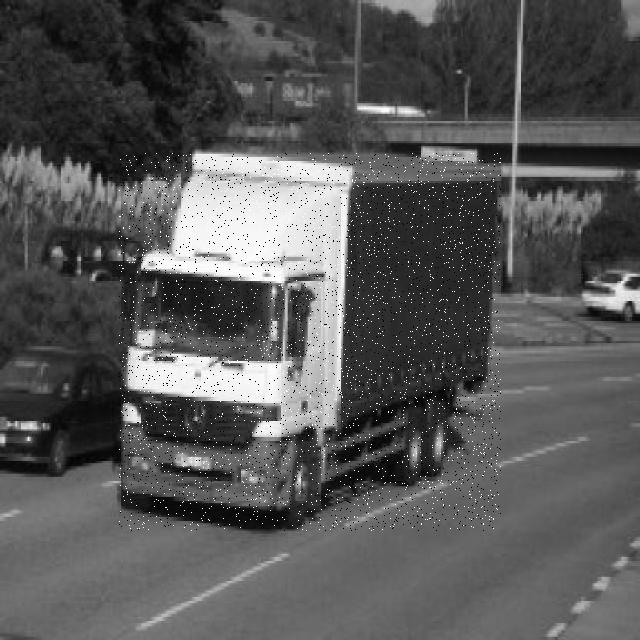Truck- Multi-Axle: (119, 153, 501, 531)
